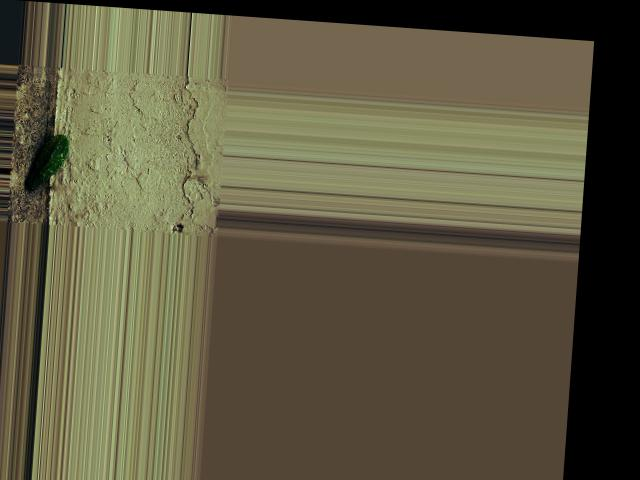cucumber: (26, 132, 70, 192)
